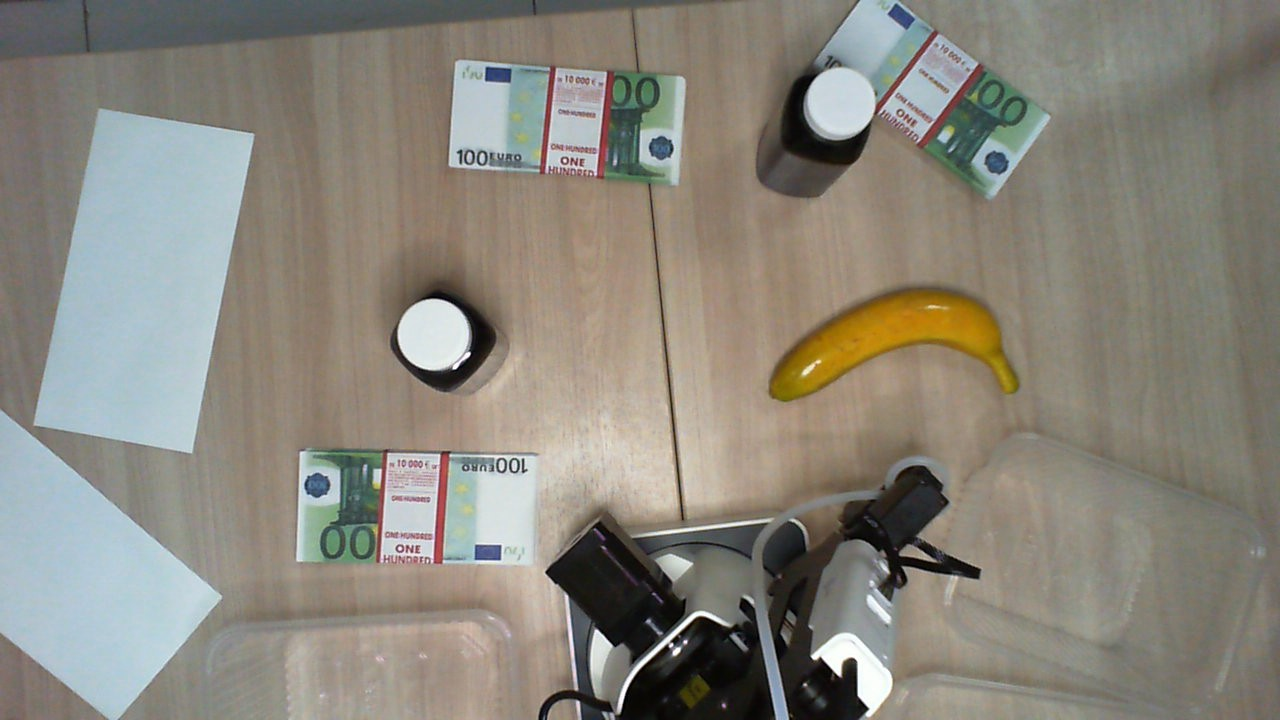banana: (768, 285, 1021, 405)
bottle: (390, 288, 496, 393), (786, 68, 876, 164)
convert: (33, 107, 255, 455), (1, 405, 223, 719)
money: (815, 1, 1054, 200), (446, 61, 685, 186), (295, 449, 538, 569)
